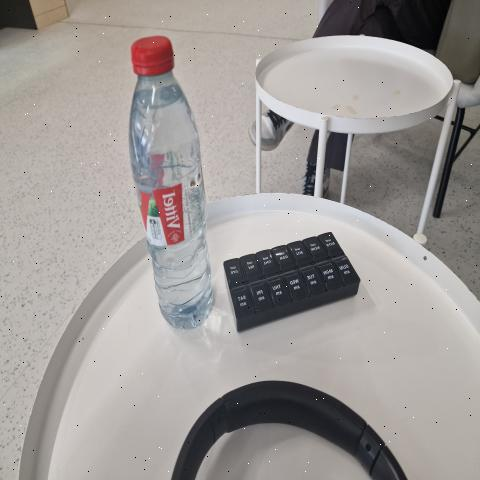PillBox: (214, 221, 373, 347)
